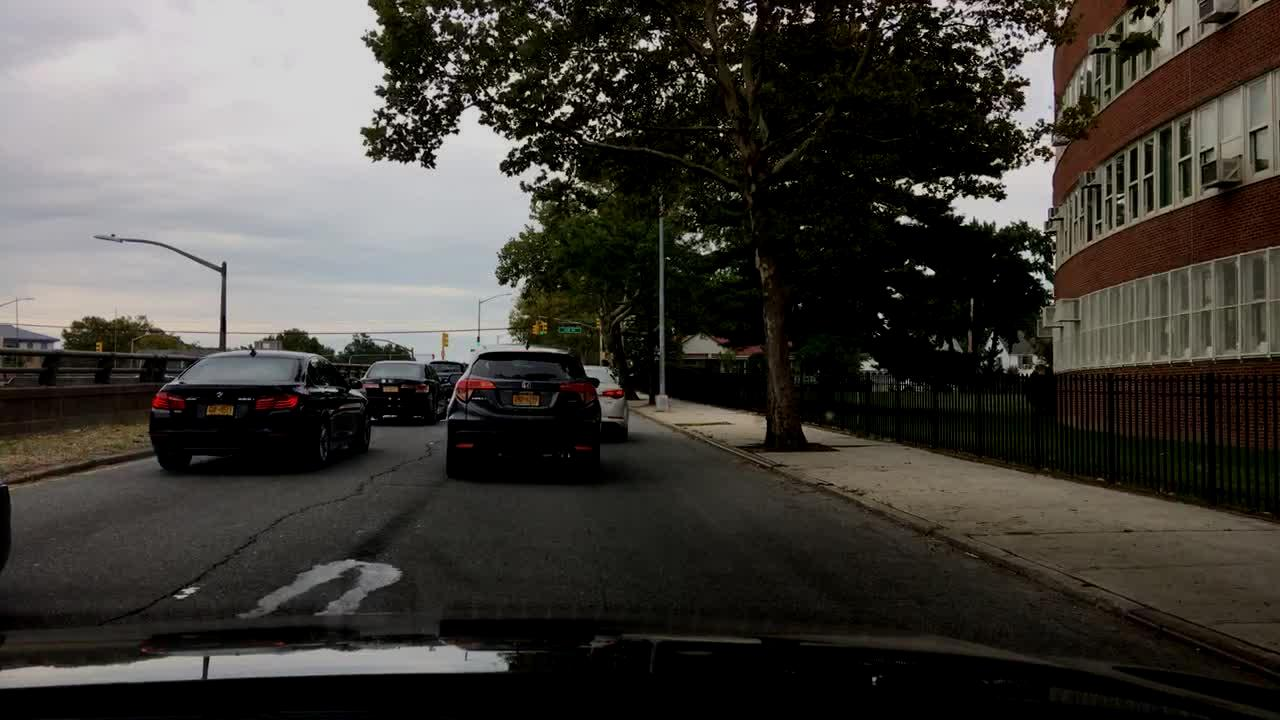Honda: (520, 377, 535, 394)
bmw: (211, 386, 229, 404)
